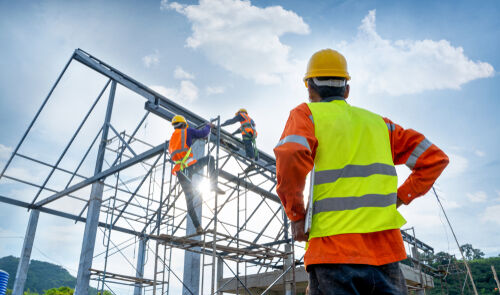cap: (293, 45, 356, 84), (164, 112, 188, 126)
jacket: (256, 100, 462, 278), (155, 127, 204, 175), (233, 115, 264, 137)
